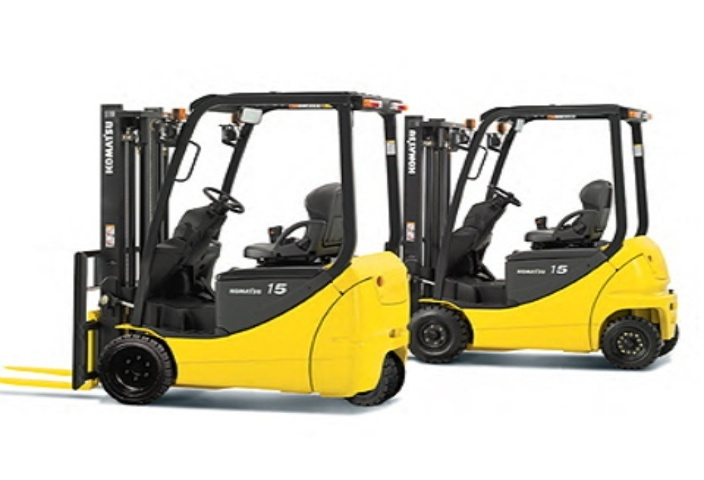industrial: (13, 70, 423, 417), (376, 89, 686, 367)
